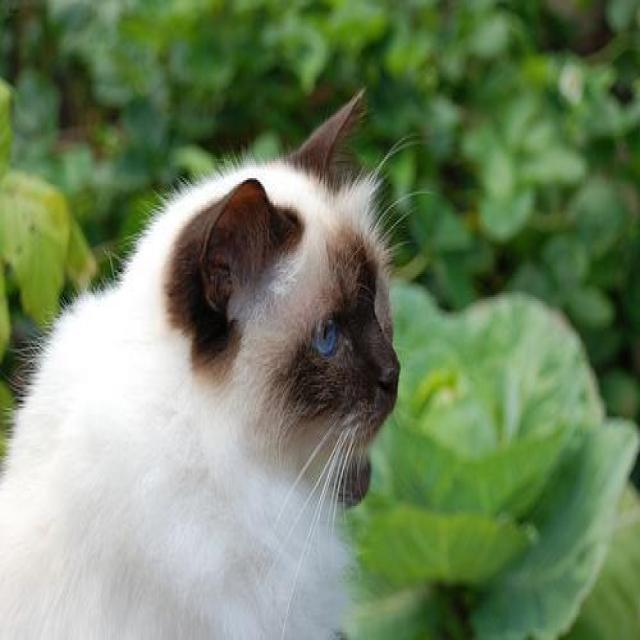cat: (0, 84, 398, 640)
